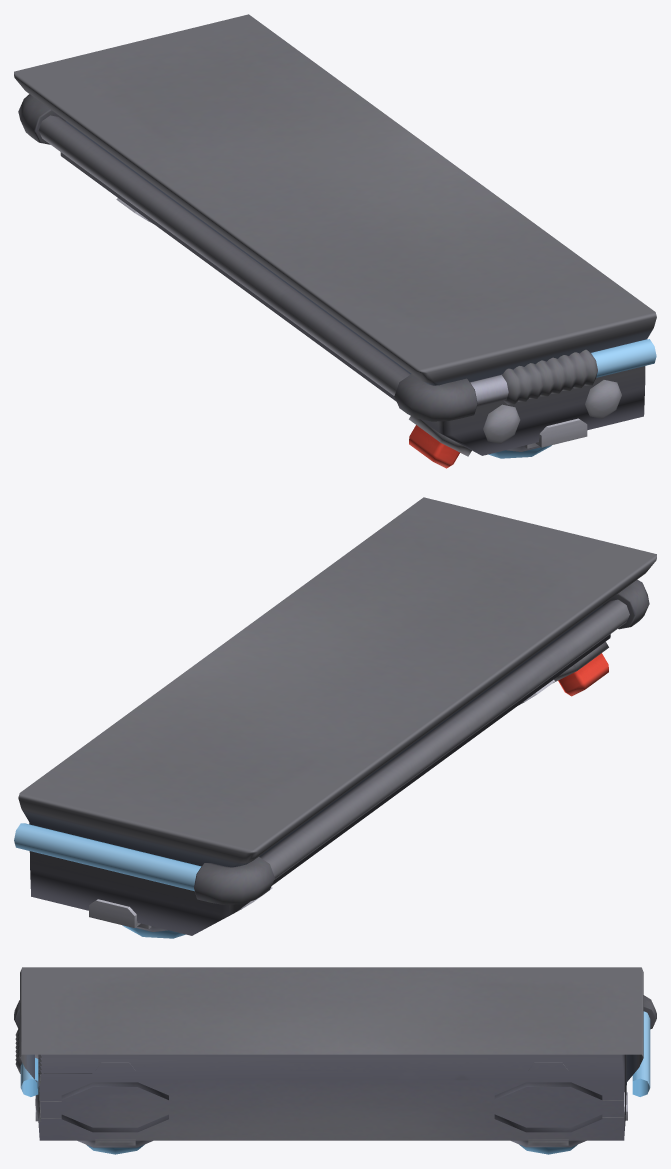
File: Space_MovingPlatLeft_Horiz.fbx
The picture shows the model from 3 angles, top to bottom: view 1: azimuth 30°, elevation 25°; view 2: azimuth 150°, elevation 25°; view 3: azimuth 270°, elevation 25°; orthographic projection. The views are drawn at different scales.
Visible parts, largest first — view 1: polySurface743; view 2: polySurface743; view 3: polySurface743.
Boxes of the visible parts, left/top/right/bottom form: polySurface743: left=14, top=14, right=656, bottom=468; polySurface743: left=14, top=497, right=656, bottom=938; polySurface743: left=14, top=967, right=656, bottom=1154.
Size of the model in its own units: 101 by 66.88 by 311.
